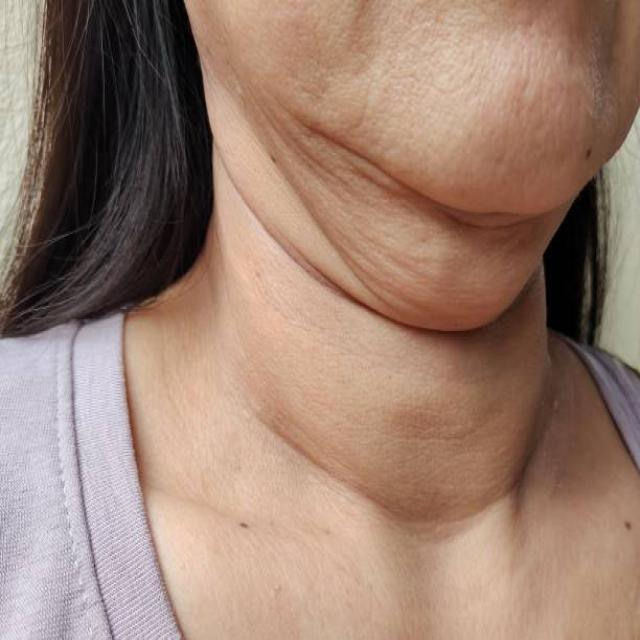Dry-Skin: (300, 8, 614, 216)
